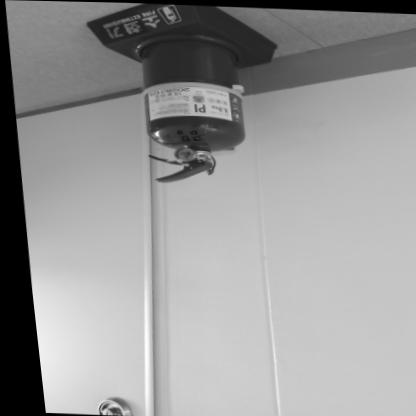FE: (82, 1, 283, 185)
